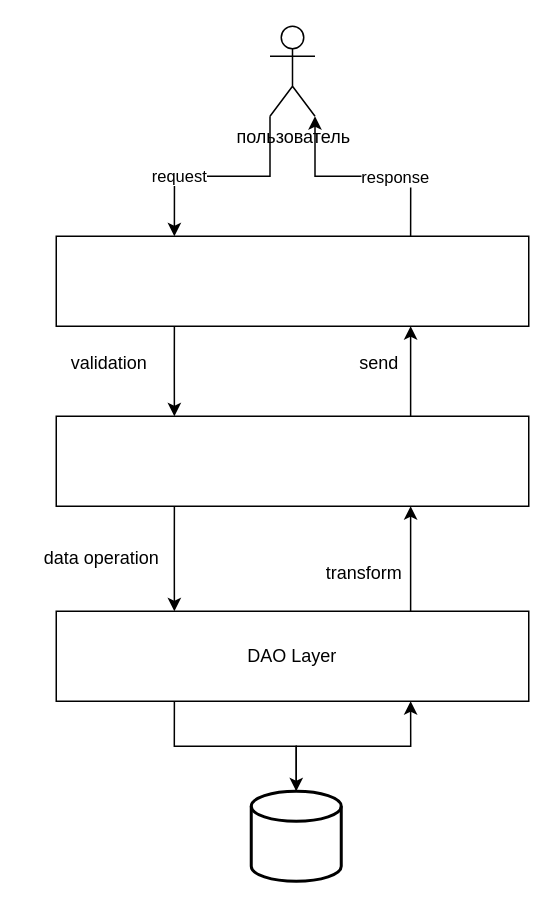
Some shapes in this 555 by 909 pixel diagram are drawn without their labels. The box of each missing label's shape, as (x1, y1, x2, y2) in pixels:
REST Layer: (55, 235, 529, 326)
Service Layer: (55, 415, 529, 506)
